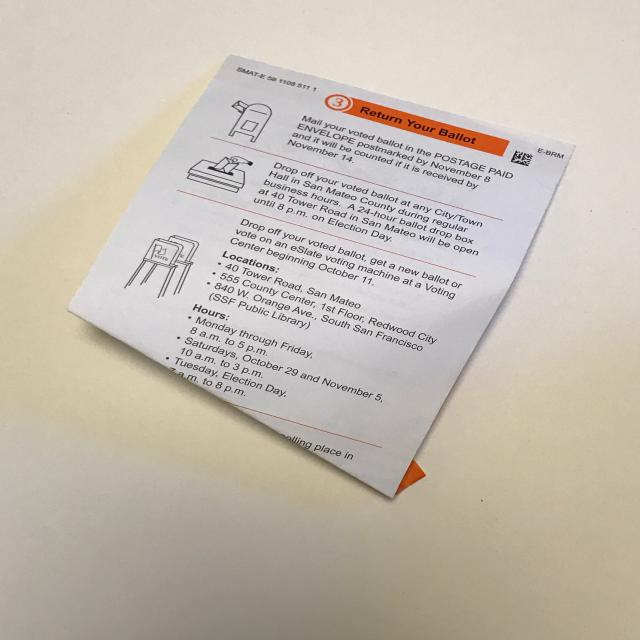paper: (66, 53, 576, 500)
